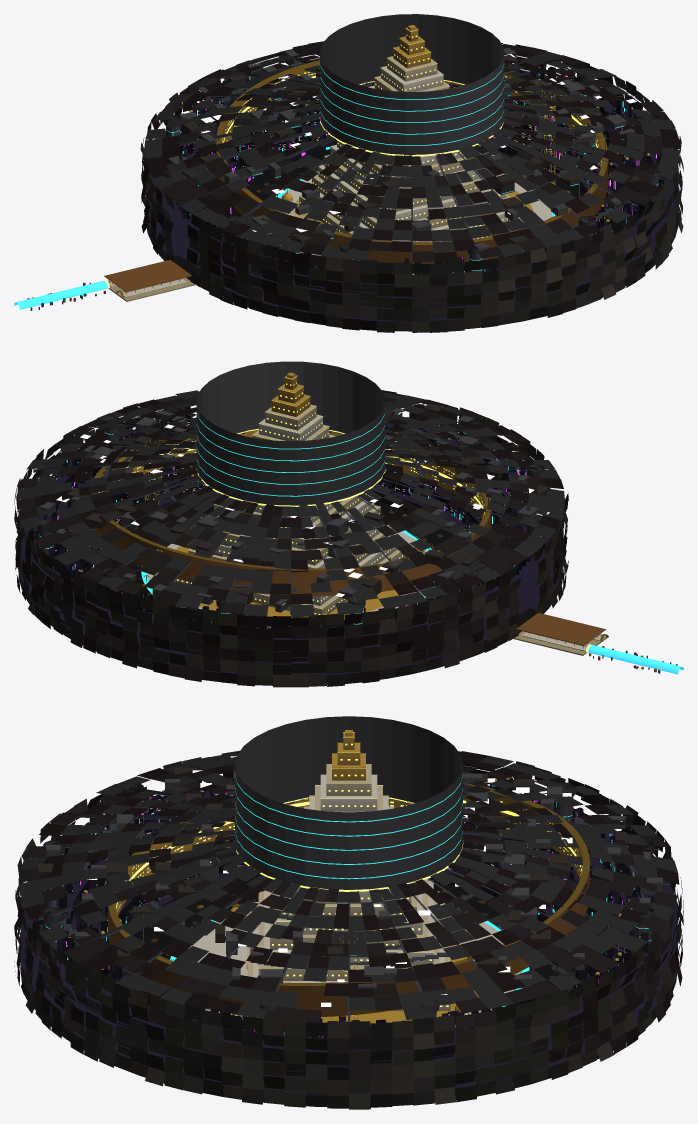
The model's file is shaddai_bazaar_city_v01.glb.
3 views of the same model, one above another, from view 1: azimuth 30°, elevation 25°; view 2: azimuth 150°, elevation 25°; view 3: azimuth 270°, elevation 25° (orthographic). The views are drawn at different scales.
Parts seen in each view (by area): view 1: shaddai_bazaar_city; view 2: shaddai_bazaar_city; view 3: shaddai_bazaar_city.
Boxes of the visible parts, left/top/right/bottom form: shaddai_bazaar_city: left=14, top=14, right=683, bottom=332; shaddai_bazaar_city: left=14, top=361, right=683, bottom=687; shaddai_bazaar_city: left=14, top=716, right=683, bottom=1109.
Size of the model in its own units: 1133 by 337 by 856.
